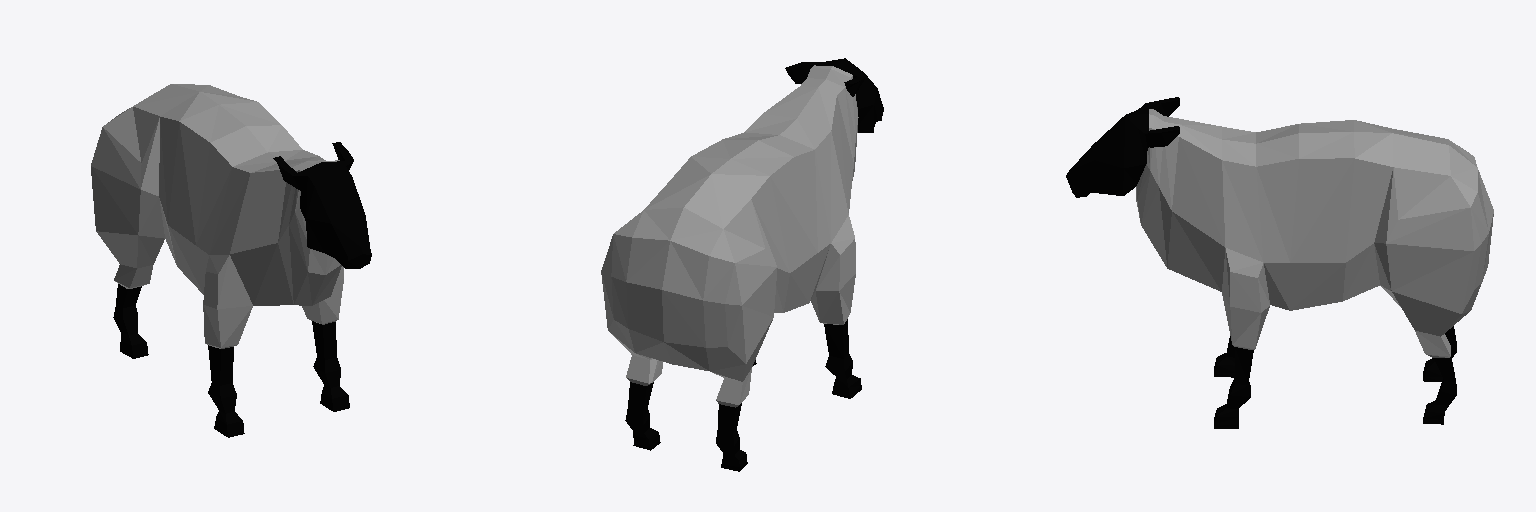
File: sheep.obj
3 views of the same model, side by side, from view 1: azimuth 30°, elevation 25°; view 2: azimuth 150°, elevation 25°; view 3: azimuth 270°, elevation 25° (orthographic).
Parts seen in each view (by area): view 1: Sheep_Cylinder.001; view 2: Sheep_Cylinder.001; view 3: Sheep_Cylinder.001.
Part boxes in pixels (x1,y1,x2,y2): Sheep_Cylinder.001: (91,84,371,437); Sheep_Cylinder.001: (601,58,883,471); Sheep_Cylinder.001: (1066,97,1493,428).
Bounding box in the file's own units: 2.23 × 4.36 × 5.92.